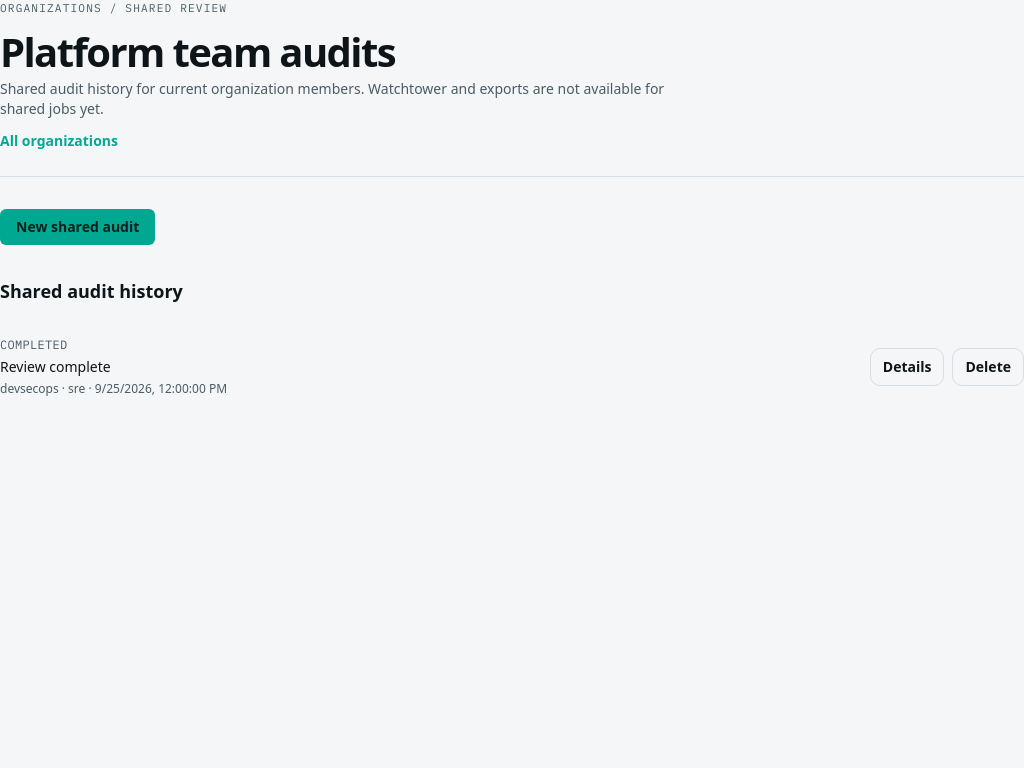
Test case: lets a workspace owner inspect, purge, and retry pending deletion through workspace routes
Step 1. Click the button "Details" → (907, 367), box [870,348,944,386]
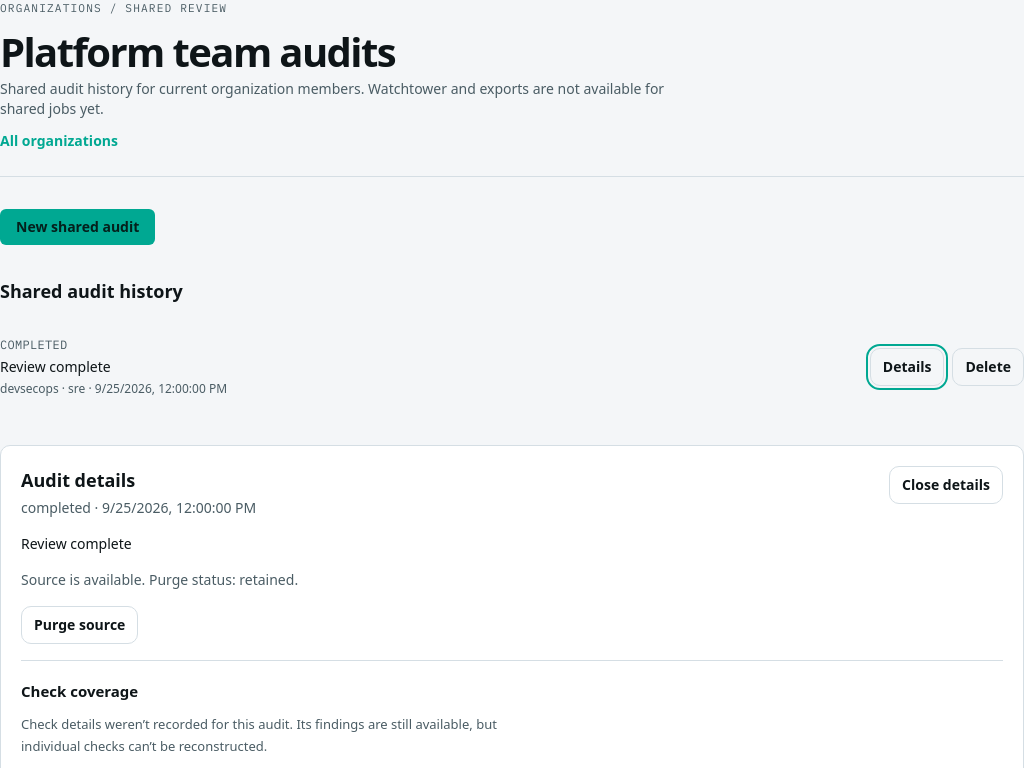
Check: the text "Watchtower and exports are not available for shared jobs yet" is shown, box [0,79,664,118]
Check: the heading "Audit details" is shown, box [21,468,135,492]
Step 2. Click the button "Purge source" → (80, 625), box [21,606,138,644]
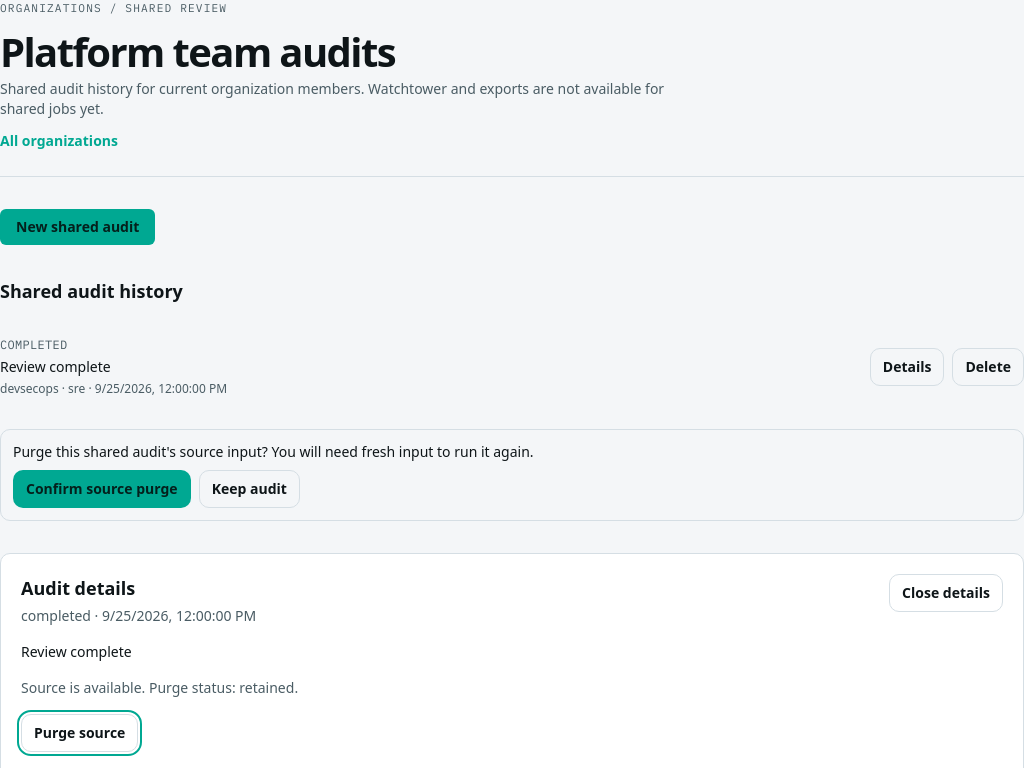
Step 3. Click the button "Confirm source purge" → (102, 489), box [13,470,191,508]
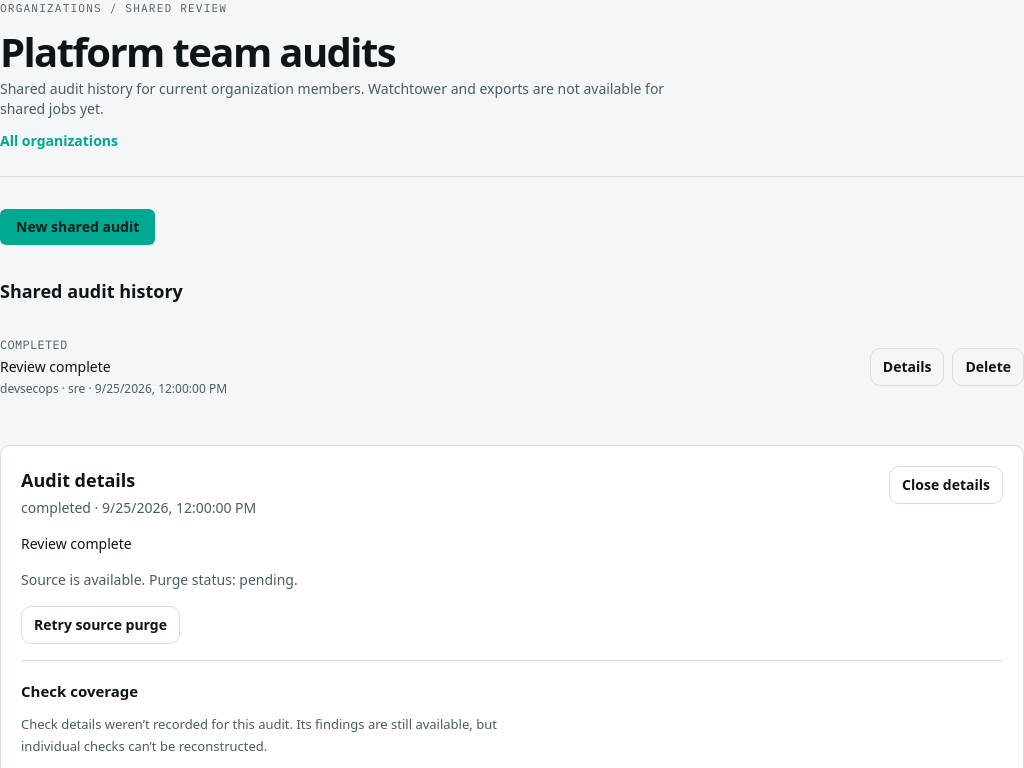
Check: the text "Source is available. Purge status: pending." is shown, box [21,570,298,589]
Step 4. Click the button "Close details" → (946, 485), box [889,466,1003,504]
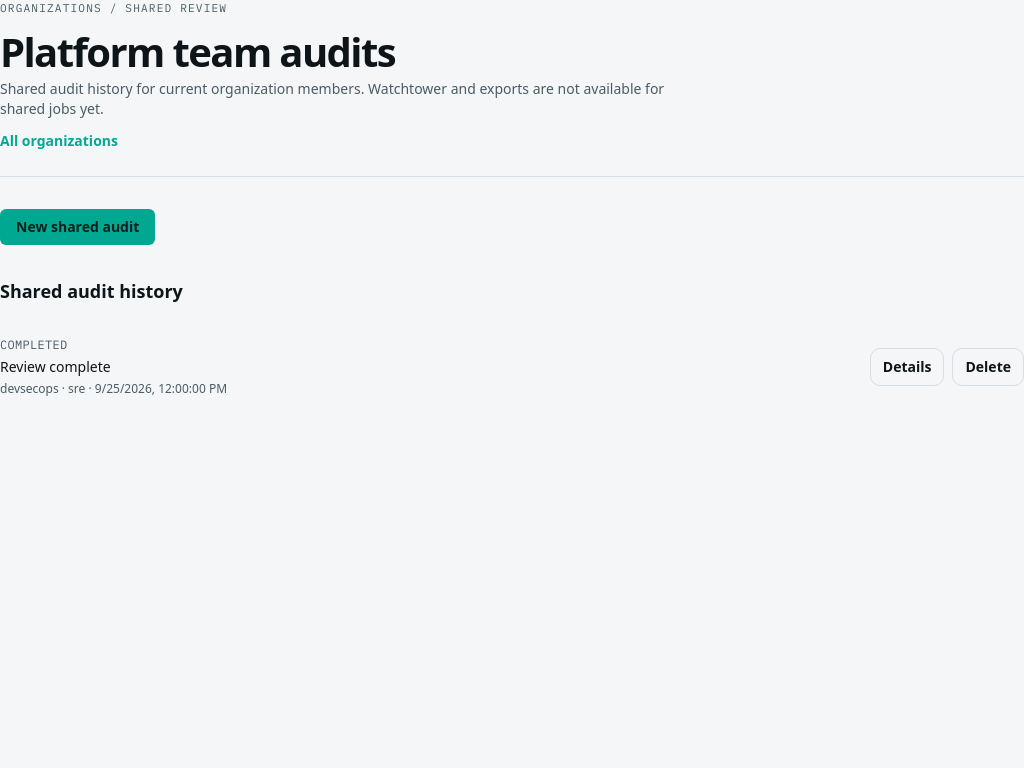
Step 5. Click the button "Delete" → (988, 367), box [952,348,1023,386]
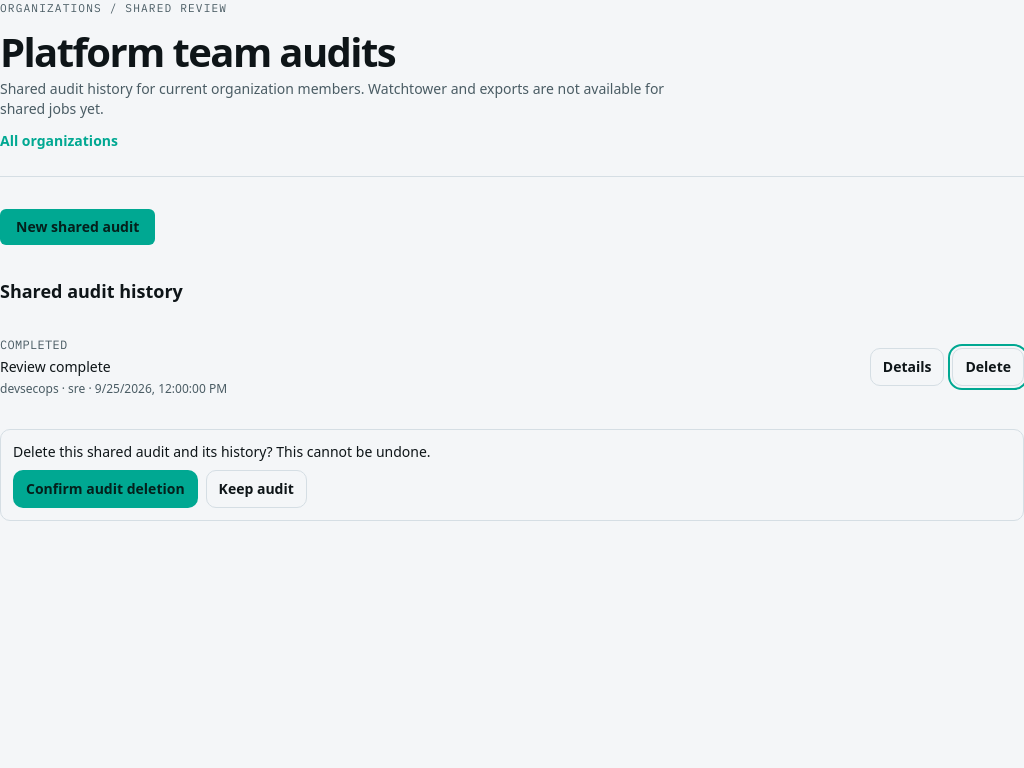
Step 6. Click the button "Confirm audit deletion" → (105, 489), box [13,470,198,508]
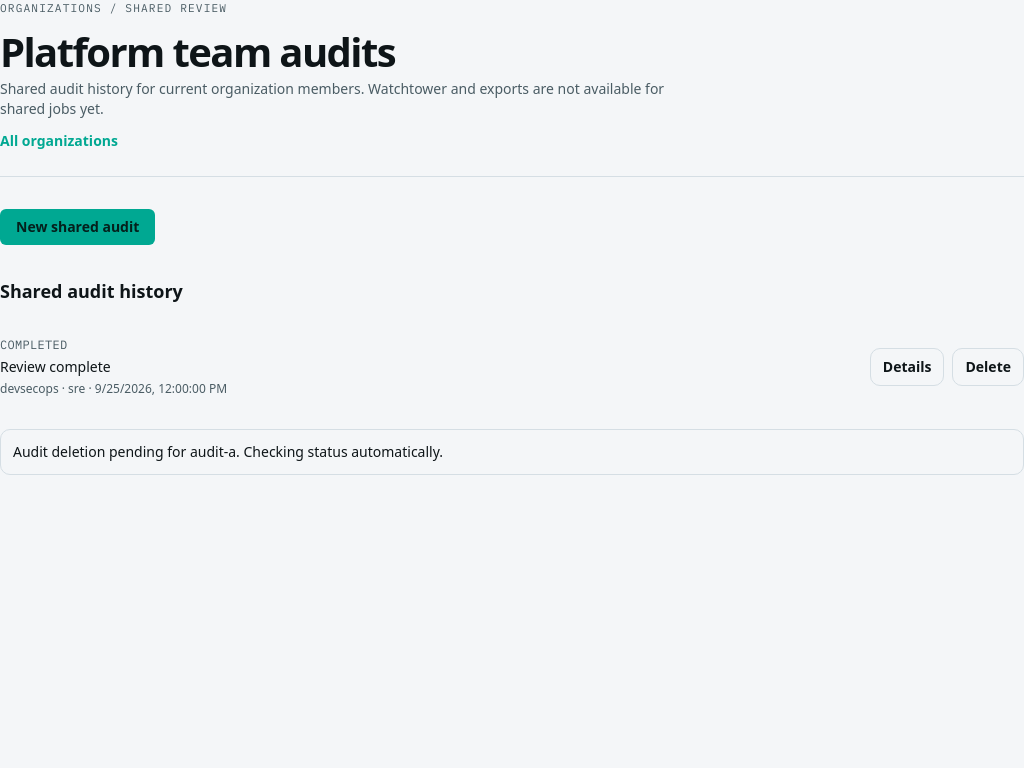
Check: the text "Audit deletion pending for audit-a. Checking status automatically." is shown, box [13,442,443,462]
